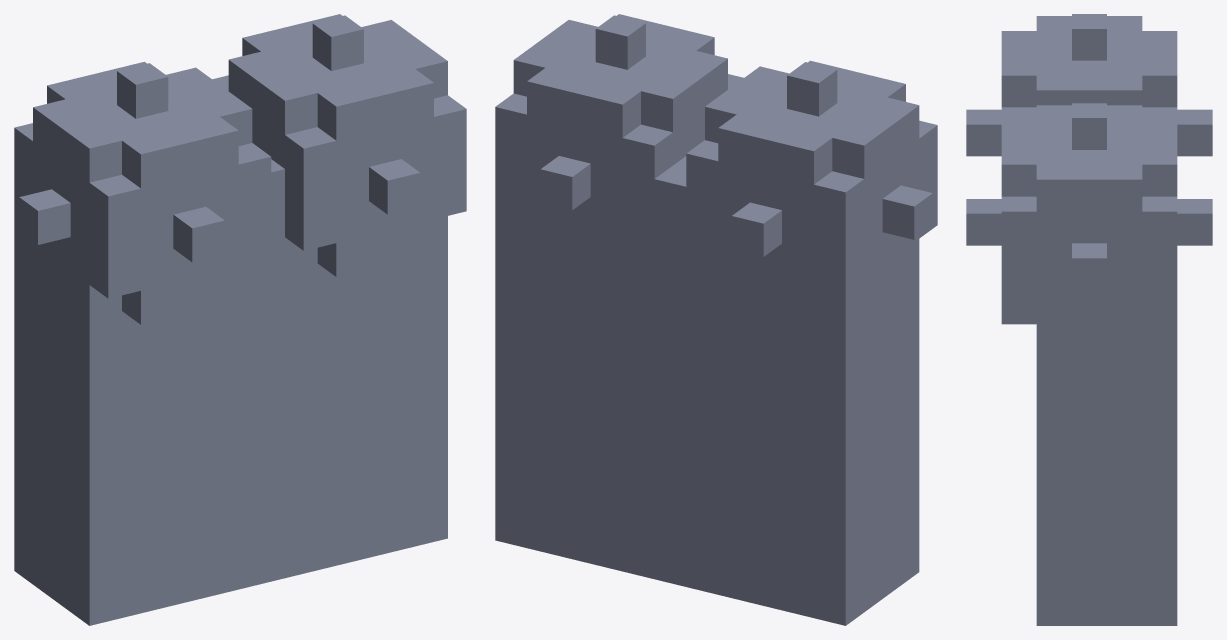
The model's file is aerospace-18.glb.
The picture shows the model from 3 angles, left to right: view 1: azimuth 30°, elevation 25°; view 2: azimuth 150°, elevation 25°; view 3: azimuth 270°, elevation 25°; orthographic projection. The views are drawn at different scales.
Parts seen in each view (by area): view 1: Mission patch; view 2: Mission patch; view 3: Mission patch.
Part boxes in pixels (x1,y1,x2,y2): Mission patch: (14,14,466,625); Mission patch: (495,14,937,625); Mission patch: (966,14,1212,625).
Bounding box in the file's own units: 1.04 × 1.2 × 0.56.
